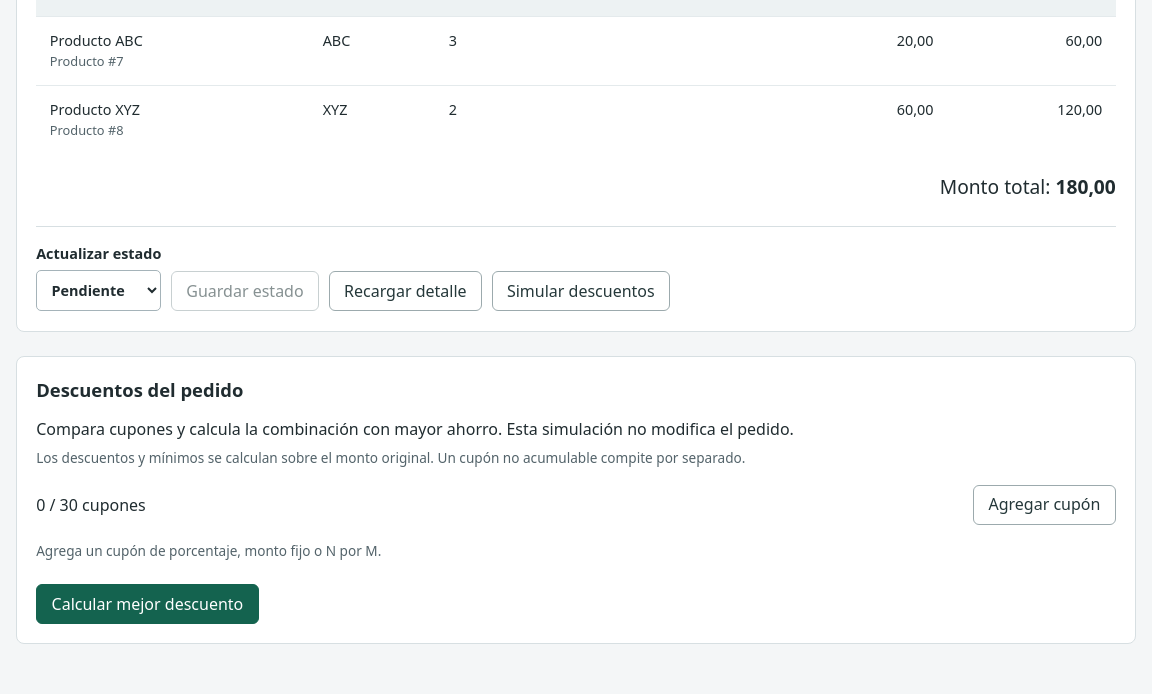
Simulador de descuentos en el detalle › impide enviar campos inválidos y permite quitar el cupón
(page scrolled)
Click the button "Agregar cupón": (1044, 505) [973,485,1116,525]
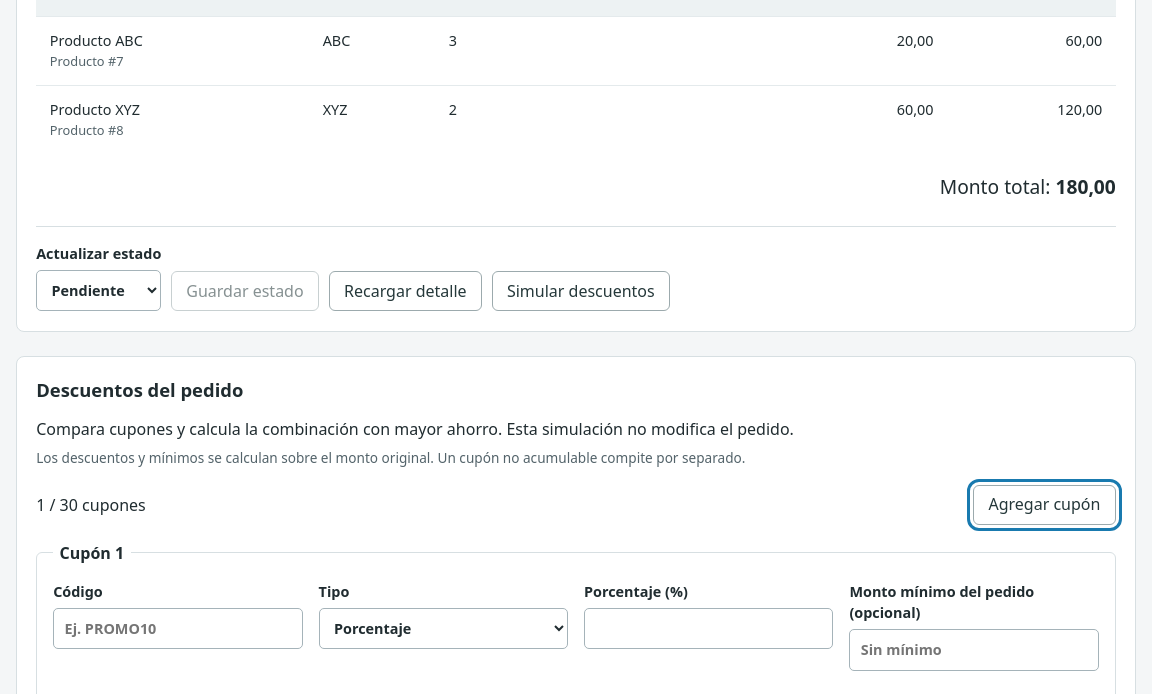
In the field labelled "Código": (178, 629) [53,608,303,649], type "PROMO10"
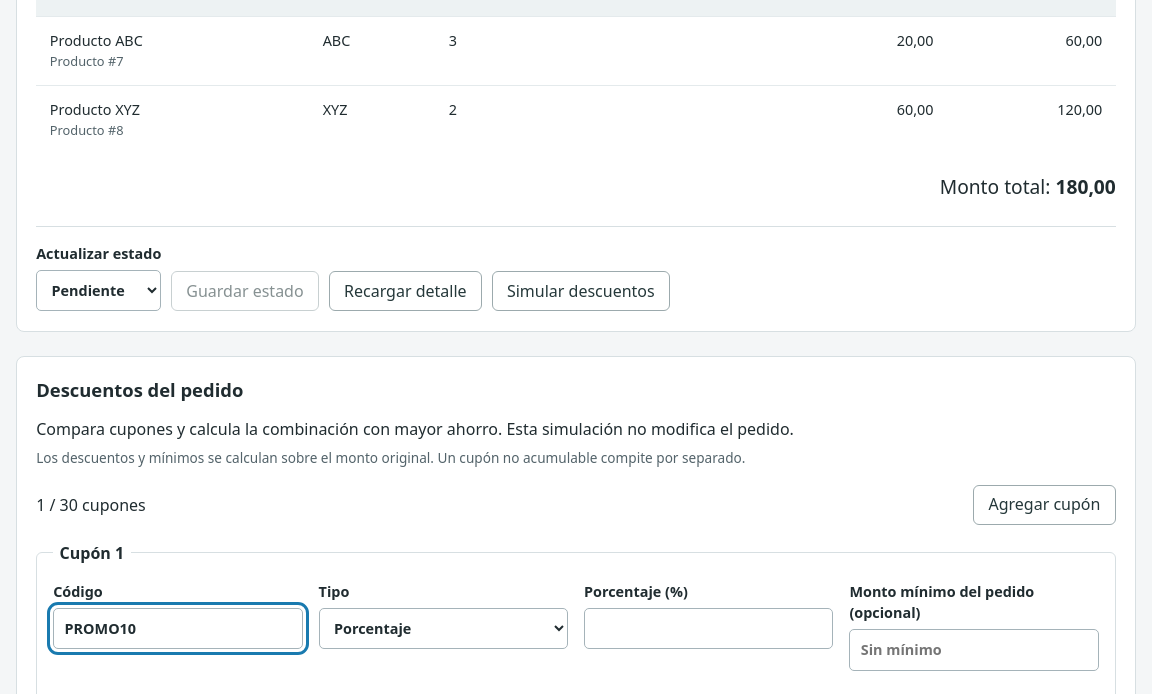
In the field labelled "Porcentaje (%)": (709, 629) [584,608,833,649], type "10"
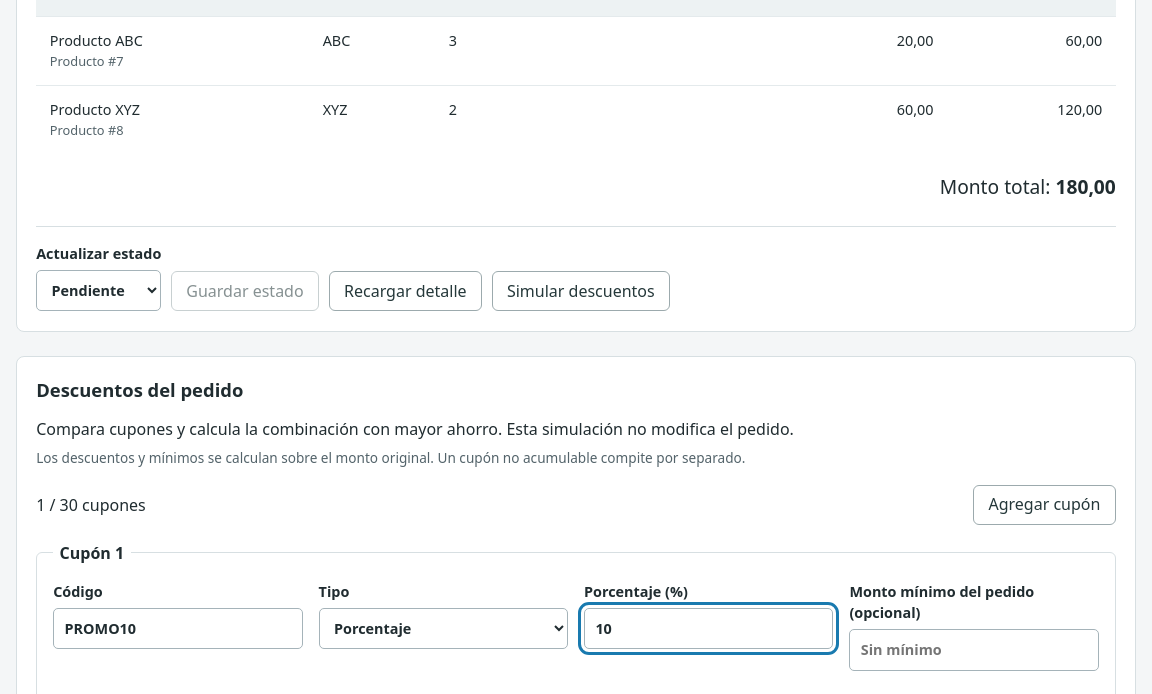
Replace the text in the field labelled "Porcentaje (%)" with "101": (709, 629) [584,608,833,649]
(page scrolled)
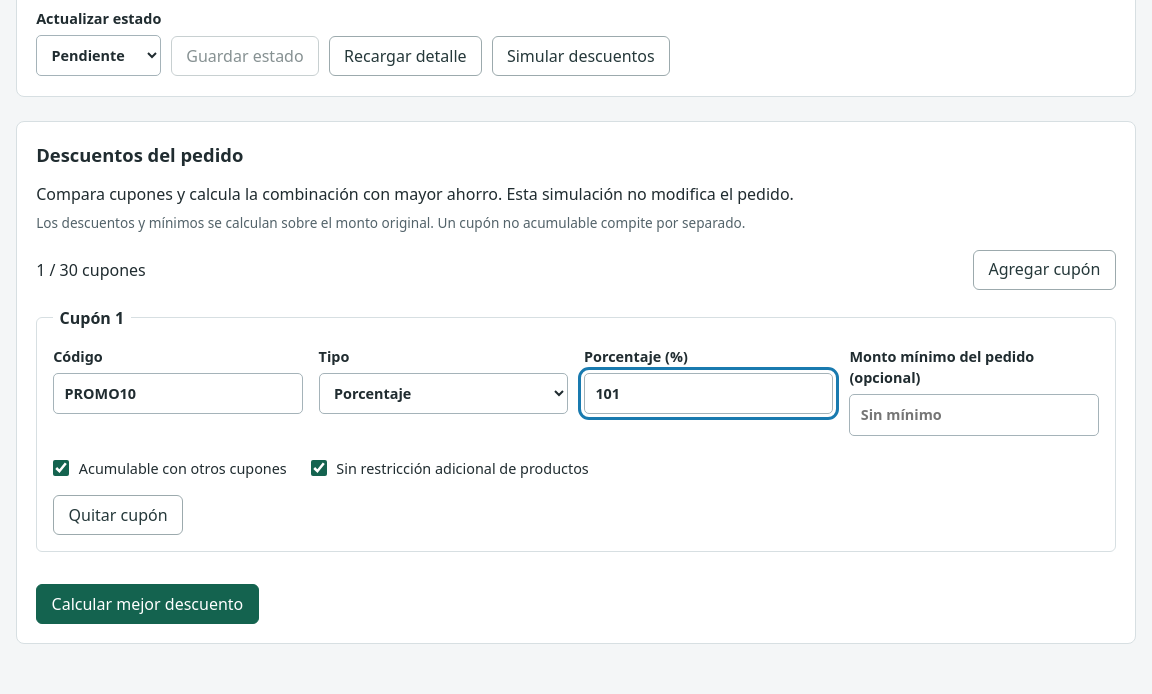
Click the button "Calcular mejor descuento": (147, 604) [36,584,259,624]
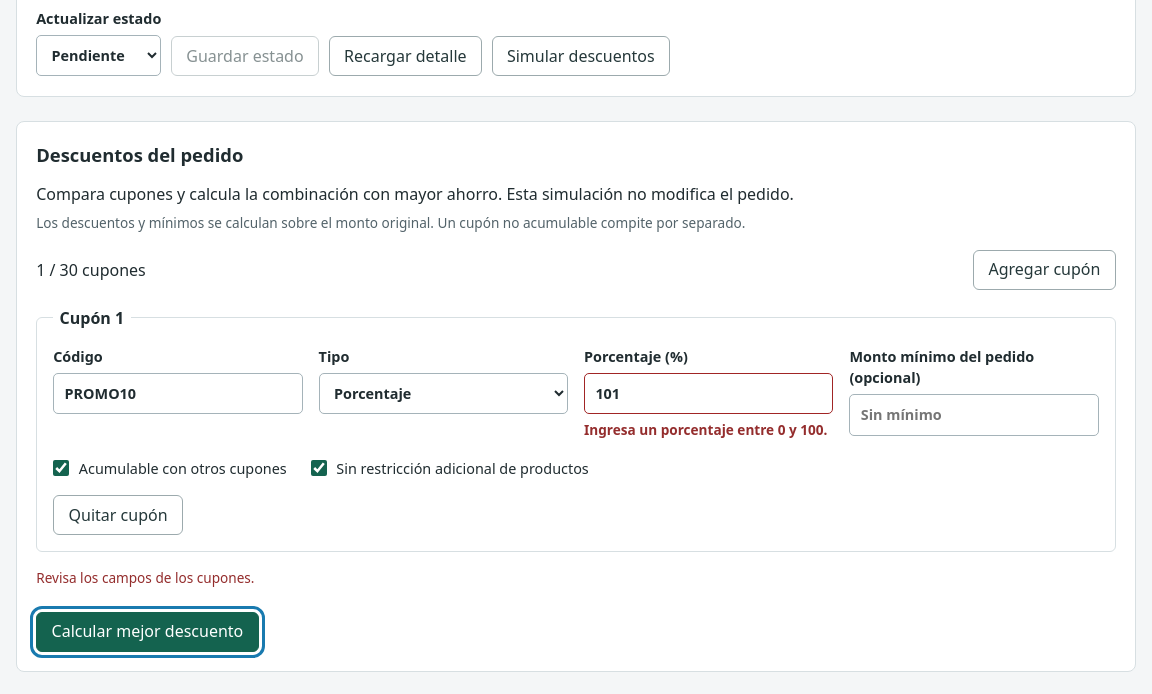
Expected: the message shows "Revisa los campos", [36,568,254,587]
Expected: the text "Ingresa un porcentaje entre 0 y 100." is shown, [584,420,833,440]
Click the button named "Quitar cupón 1": (118, 515) [53,495,183,535]
(page scrolled)
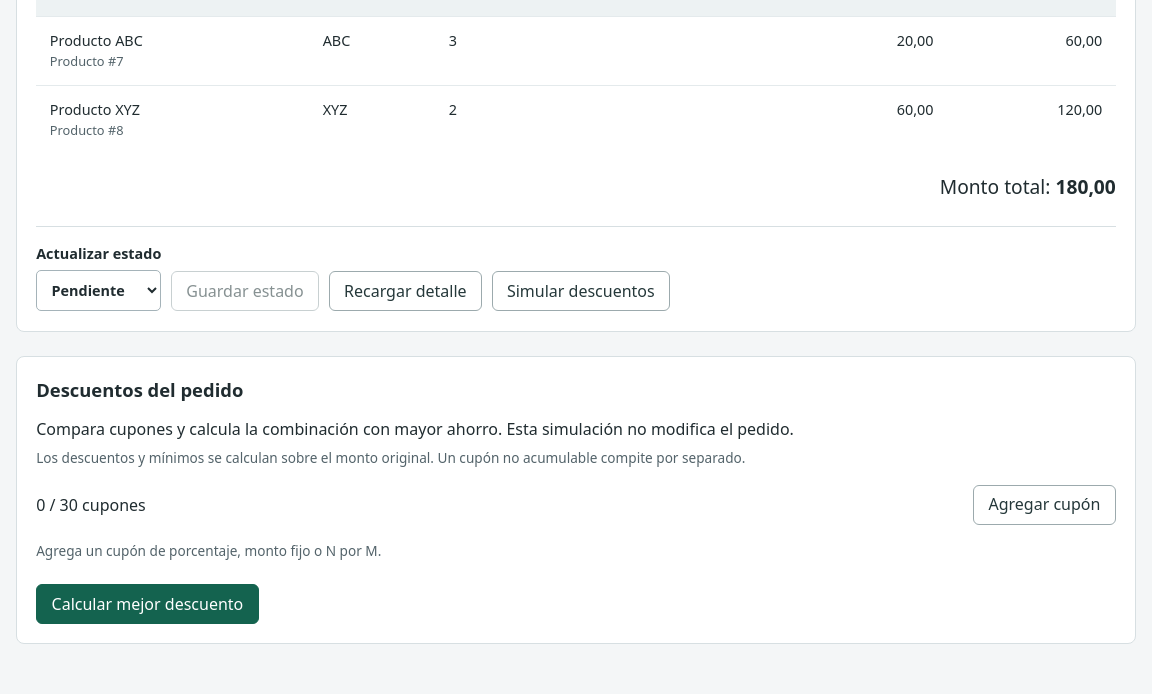
Expected: the text "0 / 30 cupones" is shown, [36,493,146,517]
Expected: the message "Revisa los campos de los cupones." is gone
